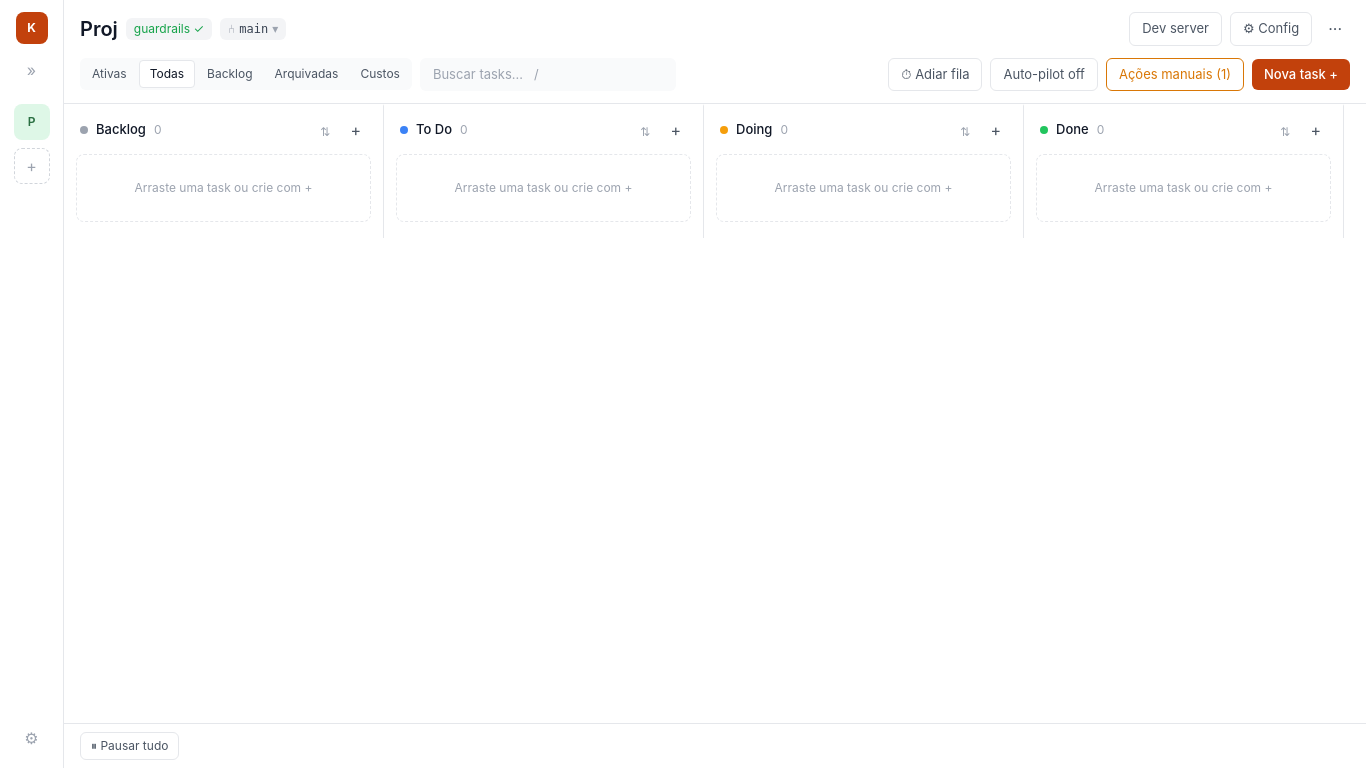
Test: modal de ações manuais › não oferece executar quando a ação não tem comando
The image size is (1366, 768).
Click the button "Ações manuais (1)". click: [1175, 74]
box: x1=1106 y1=58 x2=1244 y2=91
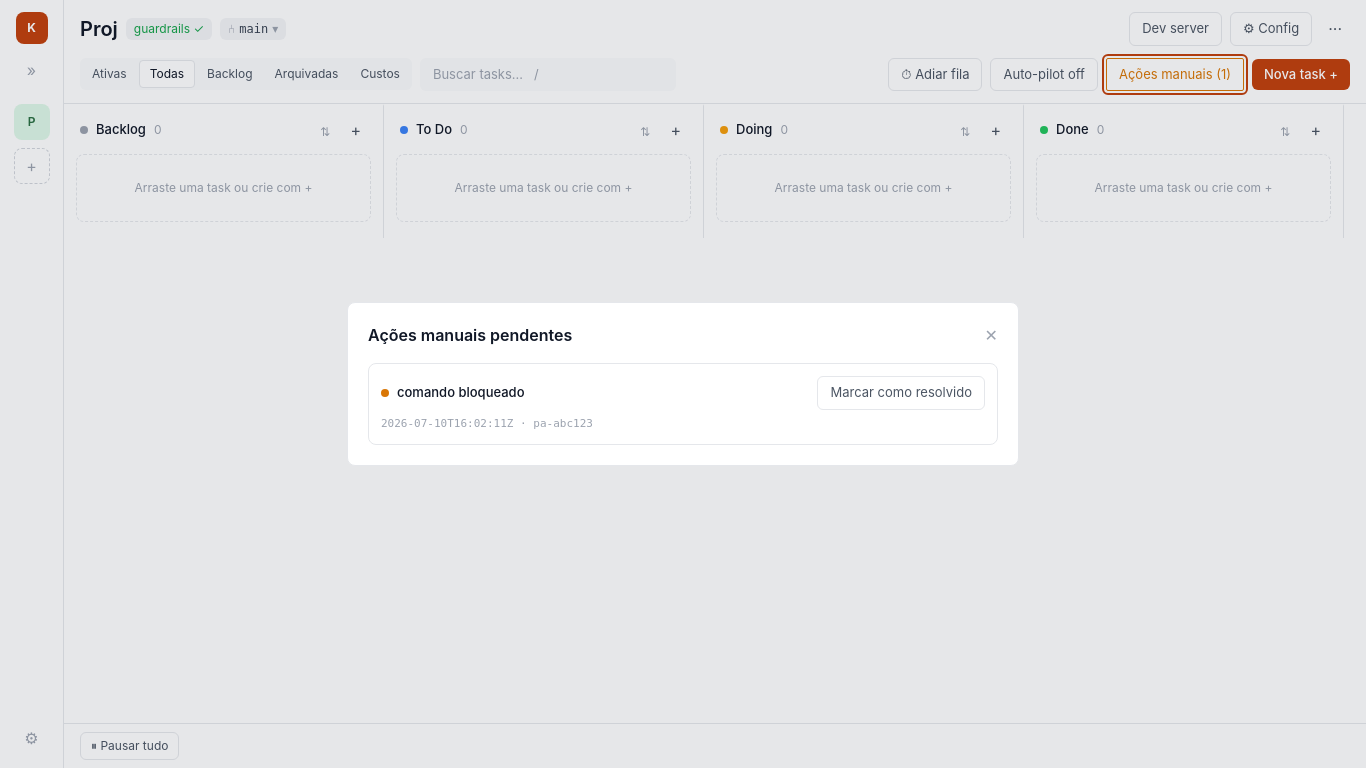
Expected: the button "Marcar como resolvido" is shown, x1=818 y1=376 x2=985 y2=410
